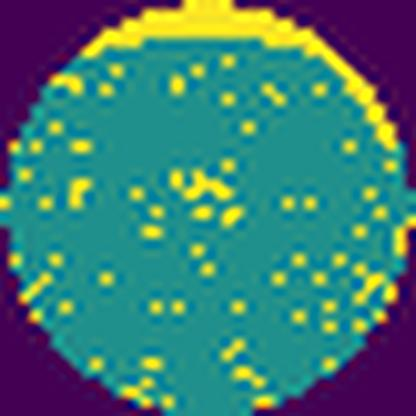Edge-Loc: (77, 0, 402, 151)
